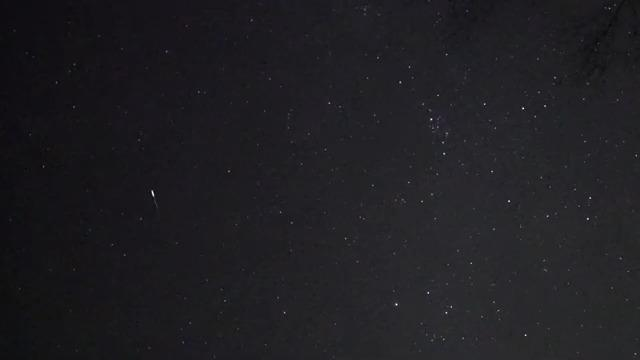meteorite: (140, 181, 171, 223)
